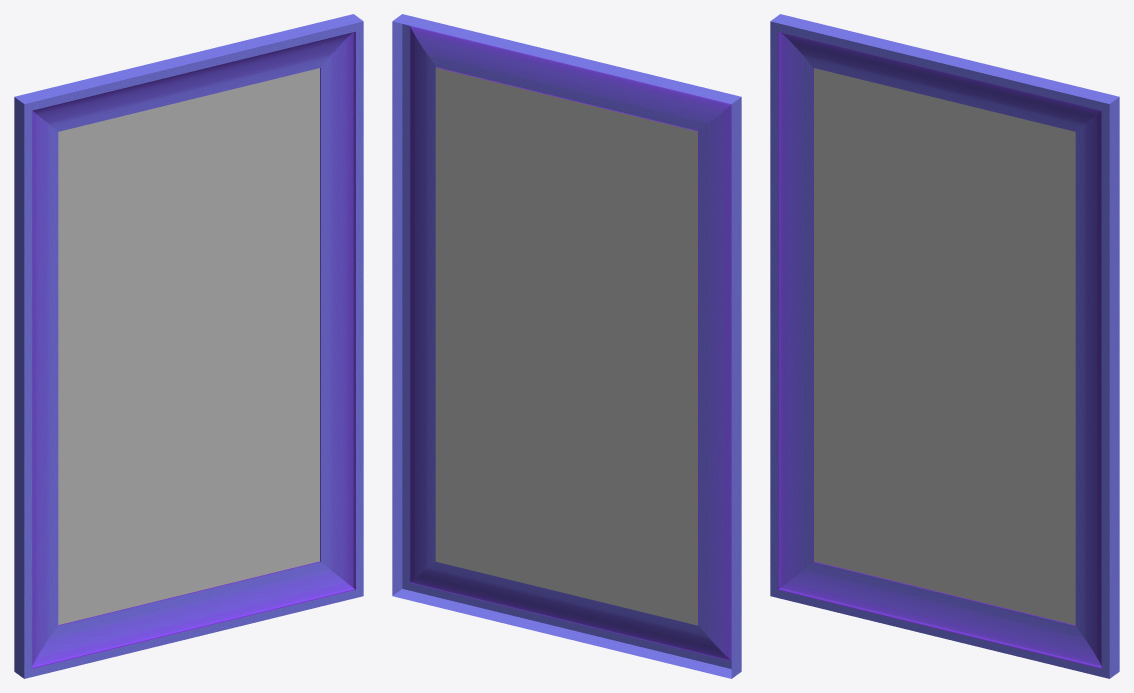
The picture shows the model from 3 angles, left to right: view 1: azimuth 30°, elevation 25°; view 2: azimuth 150°, elevation 25°; view 3: azimuth 330°, elevation 25°; orthographic projection.
Parts seen in each view (by area): view 1: _09_14, _09_14_frame; view 2: _09_14, _09_14_frame; view 3: _09_14, _09_14_frame.
Boxes of the visible parts, x1=… form: _09_14: x1=58, y1=68, x2=319, y2=624; _09_14_frame: x1=14, y1=14, x2=363, y2=678; _09_14: x1=435, y1=67, x2=697, y2=625; _09_14_frame: x1=392, y1=14, x2=741, y2=678; _09_14: x1=814, y1=68, x2=1075, y2=624; _09_14_frame: x1=770, y1=14, x2=1119, y2=678.
Bounding box in the file's own units: 162 × 262 × 8.31.
